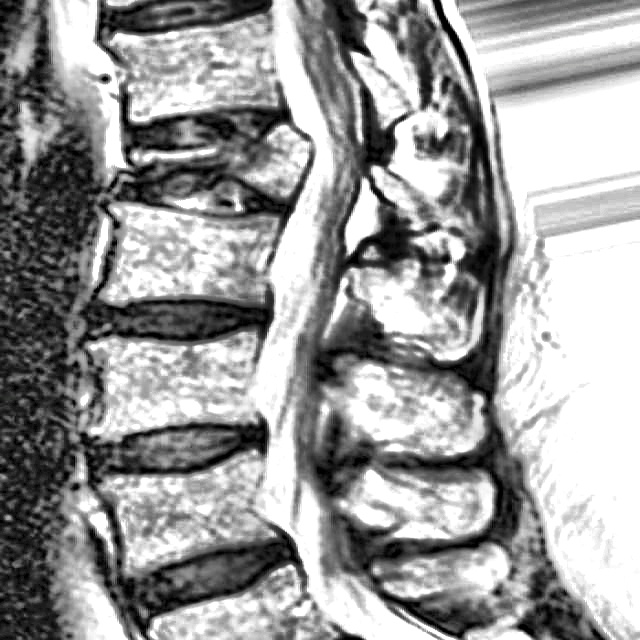Comminuted: (89, 86, 331, 227)
